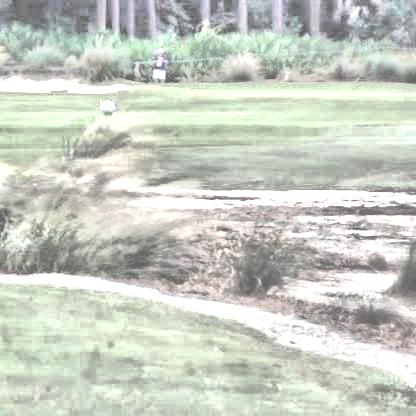golfball: (99, 98, 111, 113)
